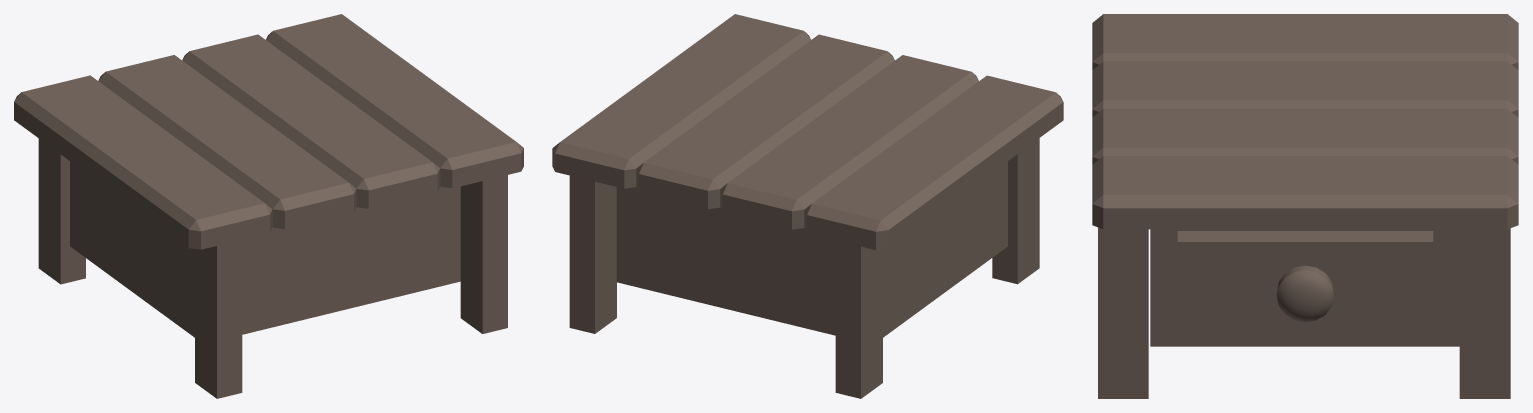
Rendered from MesaConTablas_blocking.fbx.
3 renders of one model, left to right at view 1: azimuth 30°, elevation 25°; view 2: azimuth 150°, elevation 25°; view 3: azimuth 270°, elevation 25°, orthographic. The views are drawn at different scales.
Visible parts, largest first — view 1: pCube62, pCube66, pCube65, pCube64, pCube63, Pata2, Pata, Pata3; view 2: pCube62, pCube66, pCube65, pCube64, pCube63, Pata3, Pata1, Pata2; view 3: pCube63, Cajon, pCube66, pCube65, pCube64, pCube62, Pata1, Pata, Manija.
Part boxes in pixels (<box>): pCube62: <box>70,161,460,337</box>; pCube66: <box>14,75,272,249</box>; pCube65: <box>98,55,356,229</box>; pCube64: <box>182,34,440,208</box>; pCube63: <box>266,14,523,188</box>; Pata2: <box>195,240,242,398</box>; Pata: <box>460,175,507,333</box>; Pata3: <box>38,138,85,284</box>; pCube62: <box>616,161,1007,337</box>; pCube66: <box>804,75,1063,250</box>; pCube65: <box>720,55,978,229</box>; pCube64: <box>636,34,894,209</box>; pCube63: <box>552,14,810,188</box>; Pata3: <box>835,240,882,398</box>; Pata1: <box>569,175,616,333</box>; Pata2: <box>992,138,1039,284</box>; pCube63: <box>1092,156,1518,229</box>; Cajon: <box>1177,231,1433,331</box>; pCube66: <box>1092,14,1518,69</box>; pCube65: <box>1092,61,1518,117</box>; pCube64: <box>1092,108,1518,164</box>; pCube62: <box>1150,229,1459,346</box>; Pata1: <box>1459,228,1510,398</box>; Pata: <box>1098,227,1148,398</box>; Manija: <box>1276,265,1334,322</box>.
Bounding box in the file's own units: 2.1 × 1.06 × 1.94.
